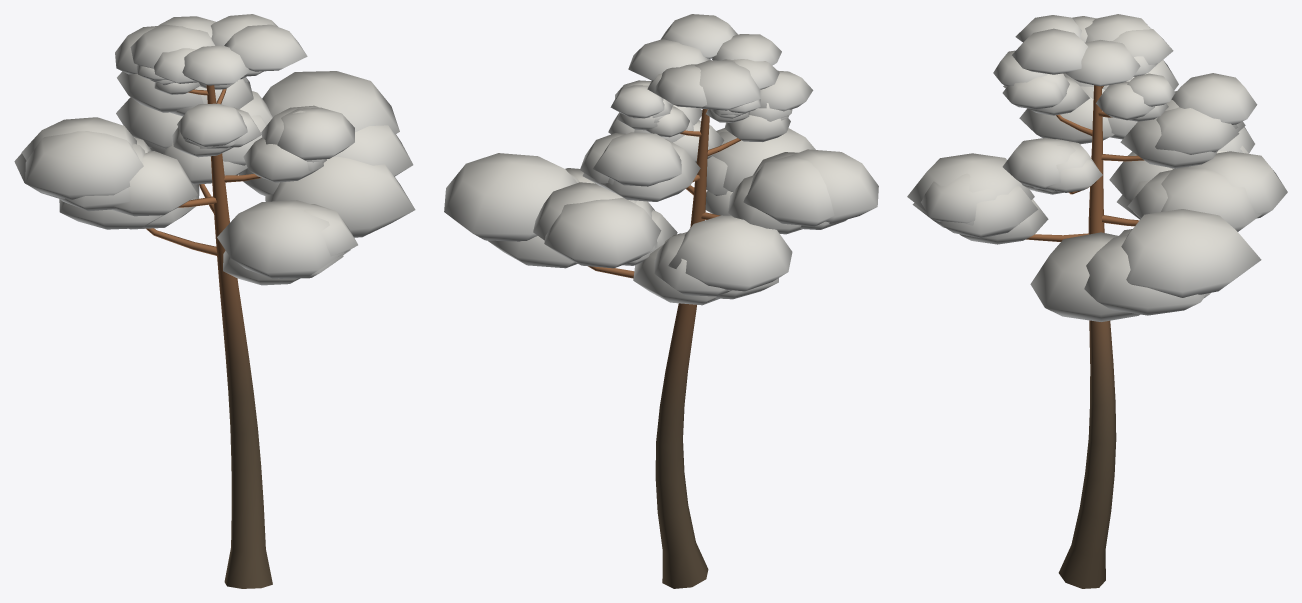
The picture shows the model from 3 angles, left to right: view 1: azimuth 30°, elevation 25°; view 2: azimuth 150°, elevation 25°; view 3: azimuth 270°, elevation 25°; orthographic projection. The views are drawn at different scales.
Visible parts, largest first — view 1: crown, trunk; view 2: crown, trunk; view 3: crown, trunk.
Part boxes in pixels (<box>): crown: <box>14,14,415,285</box>; trunk: <box>146,85,272,588</box>; crown: <box>444,14,878,305</box>; trunk: <box>588,109,740,588</box>; crown: <box>907,14,1287,321</box>; trunk: <box>1026,85,1144,588</box>.
Bounding box in the file's own units: 12.69 × 16.94 × 10.73.
